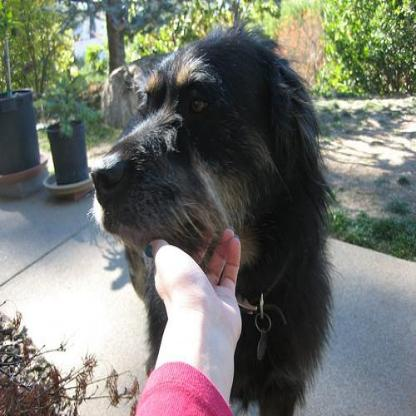Tibetan_mastiff: (83, 17, 344, 414)
